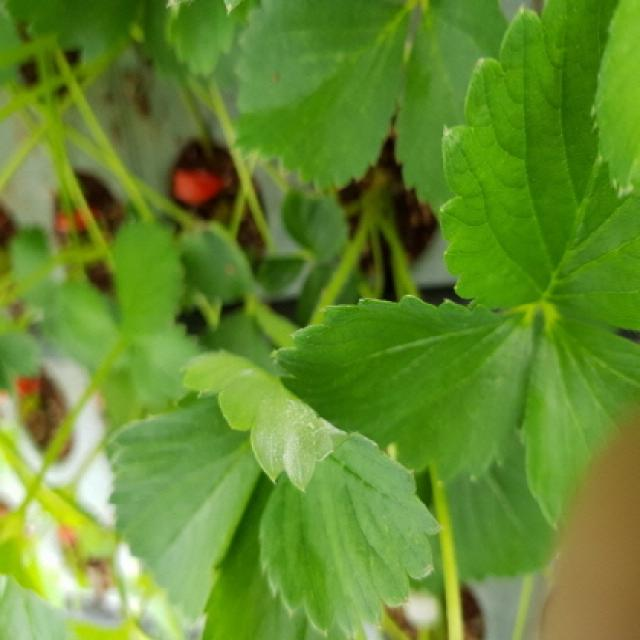Powdery Mildew Leaf: (176, 350, 445, 638)
